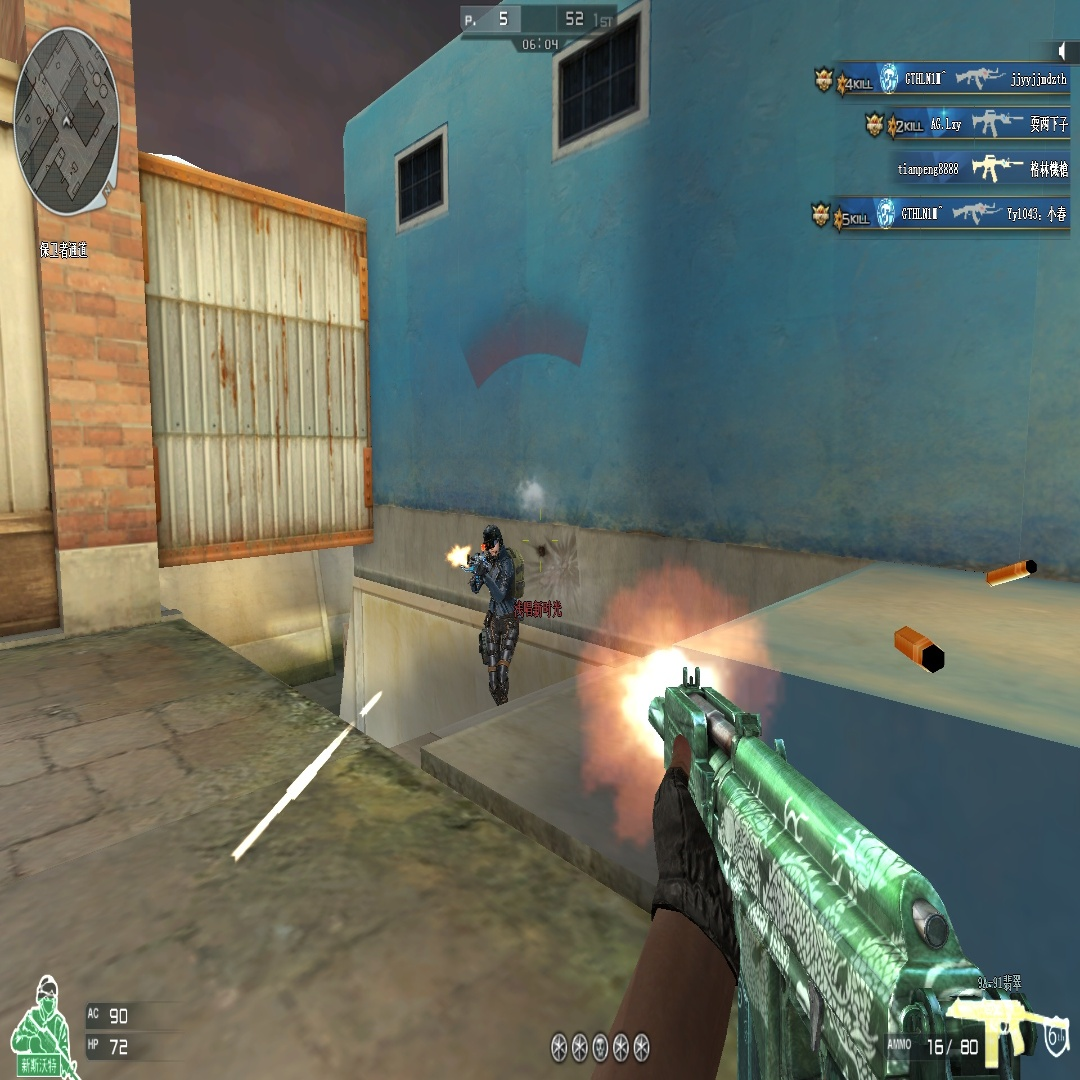head: (482, 525, 504, 565)
p: (447, 525, 522, 675)
